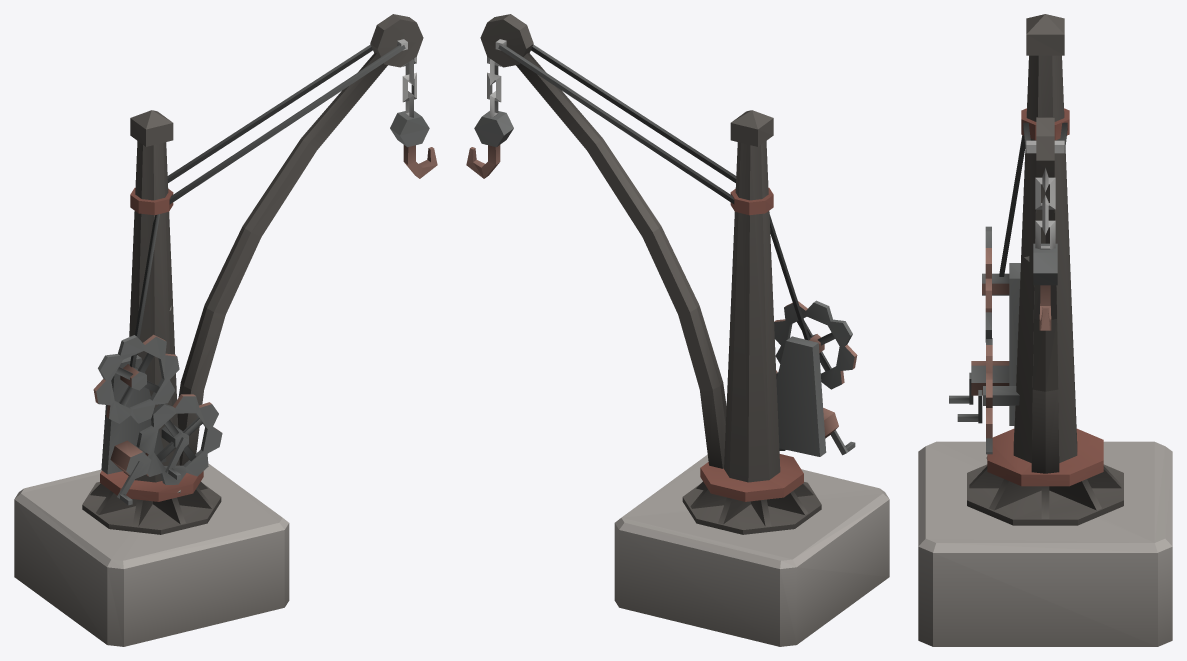
File: crane.glb
3 renders of one model, left to right at view 1: azimuth 30°, elevation 25°; view 2: azimuth 150°, elevation 25°; view 3: azimuth 270°, elevation 25°, orthographic. The views are drawn at different scales.
Visible parts, largest first — view 1: crane; view 2: crane; view 3: crane.
Part boxes in pixels (x1,y1,x2,y2): crane: (14,14,437,646); crane: (466,14,889,646); crane: (918,14,1172,646).
Size of the model in its own units: 10.88 by 14.2 by 5.28.
